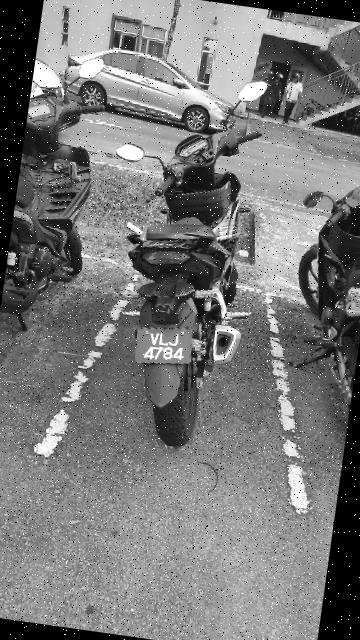License_Plate: (131, 319, 199, 371)
car: (70, 34, 251, 138)
motorcycle: (72, 60, 297, 457), (1, 52, 120, 353), (286, 153, 360, 431)
